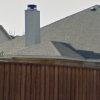Chimney: (17, 2, 46, 54)
